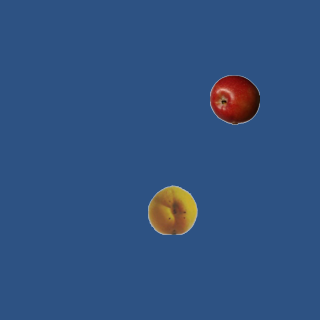Apple Braeburn: (209, 74, 259, 124)
Peach 2: (147, 184, 197, 234)
